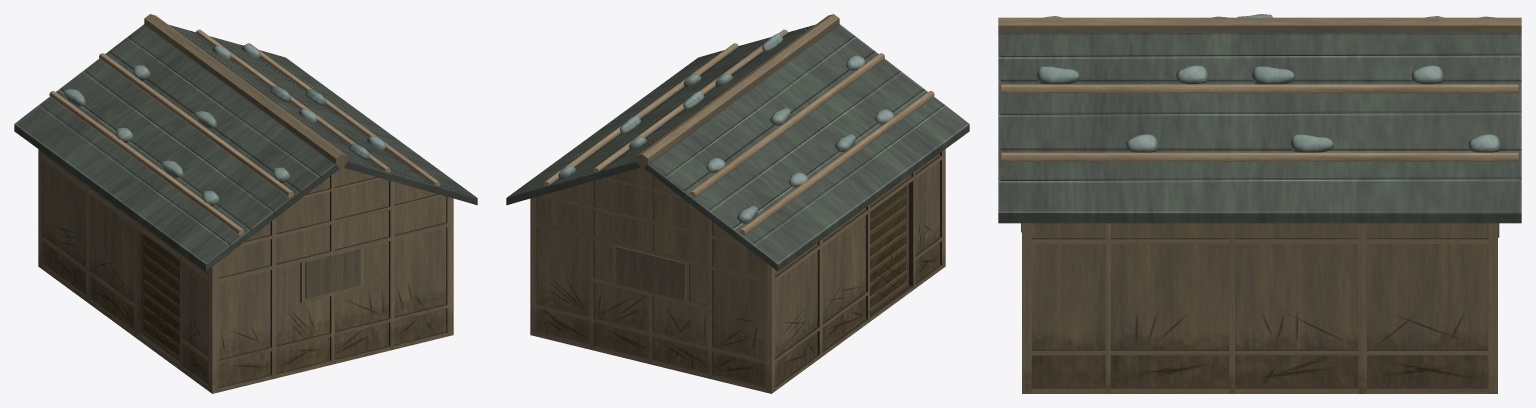
Rendered from BgMD_Akimoto_LOD_House_1_1.fbx.
3 renders of one model, left to right at view 1: azimuth 30°, elevation 25°; view 2: azimuth 150°, elevation 25°; view 3: azimuth 270°, elevation 25°, orthographic. The views are drawn at different scales.
Visible parts, largest first — view 1: BgMD_Akimoto_House_1_1_LOD_01; view 2: BgMD_Akimoto_House_1_1_LOD_01; view 3: BgMD_Akimoto_House_1_1_LOD_01.
Part boxes in pixels (x1,y1,x2,y2): BgMD_Akimoto_House_1_1_LOD_01: (14, 14, 477, 393); BgMD_Akimoto_House_1_1_LOD_01: (506, 14, 969, 393); BgMD_Akimoto_House_1_1_LOD_01: (998, 14, 1521, 393).
Bounding box in the file's own units: 450 × 343 × 550.
